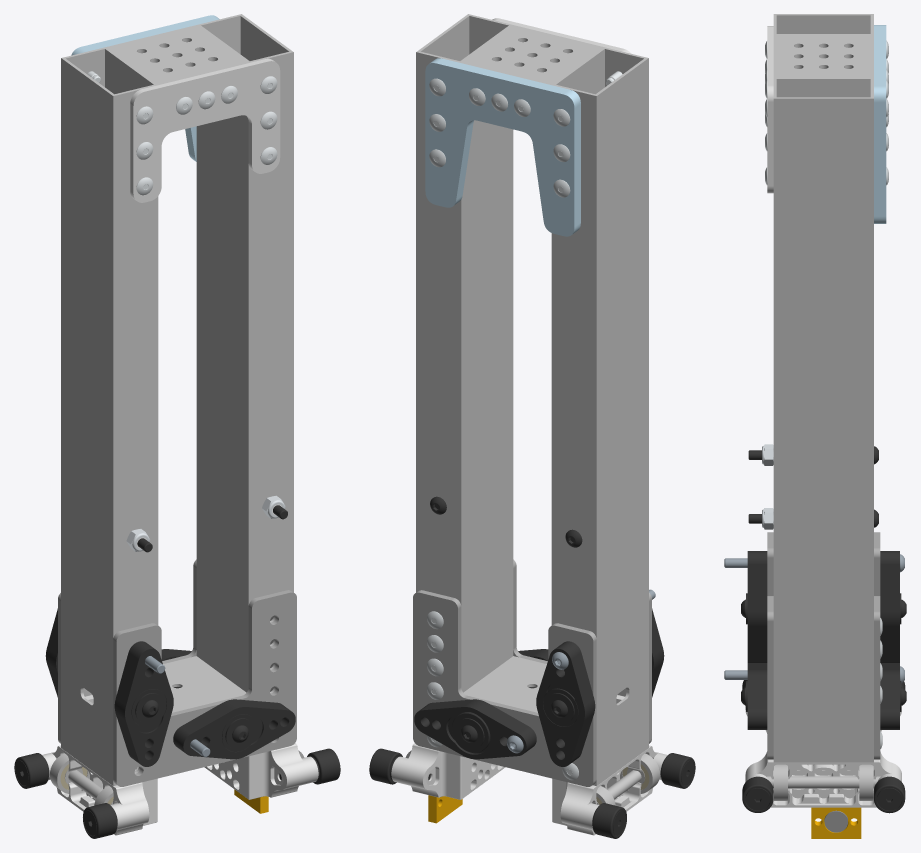
3 views of the same model, side by side, from view 1: azimuth 30°, elevation 25°; view 2: azimuth 150°, elevation 25°; view 3: azimuth 270°, elevation 25° (orthographic). The views are drawn at different scales.
Parts seen in each view (by area): view 1: Carriage Bar Left, Carriage Bar Right, U-Plate for Ratchets (×2), Top Bar Connector, Ratchet Plate (1/2" Hex) (×3), WCP-1810-001 Rev2 (×2), Carriage Bar Top, 0.625" OD Cam Follower (#10-32 x 11/16" L) (×3), Carriage Bar Bottom, Pole Hook, 0.25" ID Bearing (0.75" OD, 0.281" WD, Shielded); view 2: Carriage Bar Left, Carriage Bar Right, Pole Hook, U-Plate for Ratchets (×2), Ratchet Plate (1/2" Hex) (×3), WCP-1810-001 Rev2 (×2), Carriage Bar Top, 0.625" OD Cam Follower (#10-32 x 11/16" L) (×3), Carriage Bar Bottom, 0.25" ID Bearing (0.75" OD, 0.281" WD, Shielded), Magnet Holder; view 3: Carriage Bar Right, Ratchet Plate (1/2" Hex) (×4), Carriage Bar Top, WCP-1810-001 Rev2, U-Plate for Ratchets (×2), Pole Hook, Carriage Bar Left, 0.625" OD Cam Follower (#10-32 x 11/16" L) (×2), Magnet Holder, Top Bar Connector, 0.25" ID Bearing (0.75" OD, 0.281" WD, Shielded) (×2), WCP-1810-004 Rev1 (+1 smaller).
Boxes of the visible parts, x1,y1,x2,y2 form: Carriage Bar Left: [61, 47, 158, 785]; Carriage Bar Right: [196, 14, 293, 693]; U-Plate for Ratchets (×2): [58, 559, 296, 786]; Top Bar Connector: [130, 58, 280, 202]; Ratchet Plate (1/2" Hex) (×3): [45, 608, 295, 766]; WCP-1810-001 Rev2 (×2): [51, 695, 308, 835]; Carriage Bar Top: [106, 25, 248, 84]; 0.625" OD Cam Follower (#10-32 x 11/16" L) (×3): [14, 748, 340, 838]; Carriage Bar Bottom: [163, 656, 246, 712]; Pole Hook: [71, 15, 219, 161]; 0.25" ID Bearing (0.75" OD, 0.281" WD, Shielded): [50, 753, 89, 793]; Carriage Bar Left: [551, 47, 648, 786]; Carriage Bar Right: [416, 14, 513, 692]; Pole Hook: [425, 58, 580, 236]; U-Plate for Ratchets (×2): [413, 559, 651, 786]; Ratchet Plate (1/2" Hex) (×3): [414, 608, 664, 766]; WCP-1810-001 Rev2 (×2): [401, 695, 658, 835]; Carriage Bar Top: [461, 25, 603, 84]; 0.625" OD Cam Follower (#10-32 x 11/16" L) (×3): [369, 748, 695, 838]; Carriage Bar Bottom: [463, 656, 546, 712]; 0.25" ID Bearing (0.75" OD, 0.281" WD, Shielded): [620, 753, 659, 793]; Magnet Holder: [428, 795, 462, 823]; Carriage Bar Right: [773, 77, 873, 762]; Ratchet Plate (1/2" Hex) (×4): [747, 551, 899, 729]; Carriage Bar Top: [773, 35, 873, 77]; WCP-1810-001 Rev2: [745, 751, 901, 807]; U-Plate for Ratchets (×2): [767, 532, 880, 759]; Pole Hook: [874, 25, 886, 223]; Carriage Bar Left: [773, 14, 873, 35]; 0.625" OD Cam Follower (#10-32 x 11/16" L) (×2): [742, 776, 905, 813]; Magnet Holder: [811, 807, 861, 838]; Top Bar Connector: [767, 26, 773, 193]; 0.25" ID Bearing (0.75" OD, 0.281" WD, Shielded) (×2): [774, 764, 873, 800]; WCP-1810-004 Rev1: [766, 776, 880, 788].
Bounding box in the file's own units: 0.1365 × 0.4155 × 0.0922.
